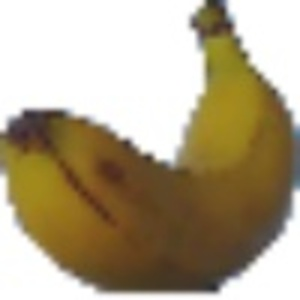banana: (5, 2, 297, 294)
